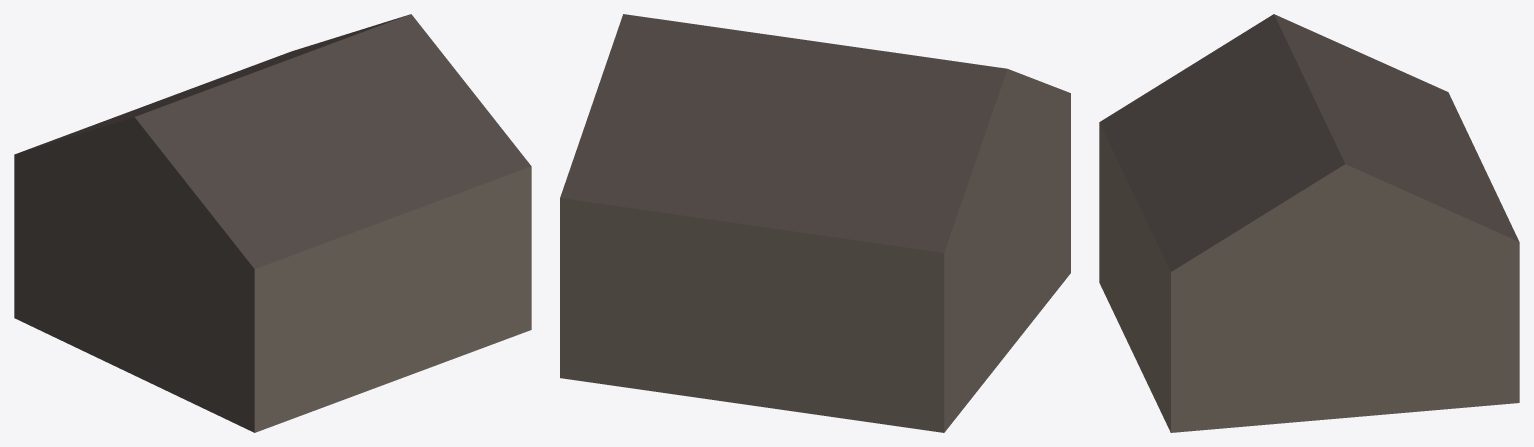
3 views of the same model, side by side, from view 1: azimuth 30°, elevation 25°; view 2: azimuth 150°, elevation 25°; view 3: azimuth 270°, elevation 25° (orthographic). The views are drawn at different scales.
Visible parts, largest first — view 1: HP-w859424273; view 2: HP-w859424273; view 3: HP-w859424273.
Boxes of the visible parts, x1,y1,x2,y2 form: HP-w859424273: (14,14,531,432); HP-w859424273: (560,14,1070,432); HP-w859424273: (1099,14,1519,432).
Bounding box in the file's own units: 14.42 × 9.48 × 14.21.
